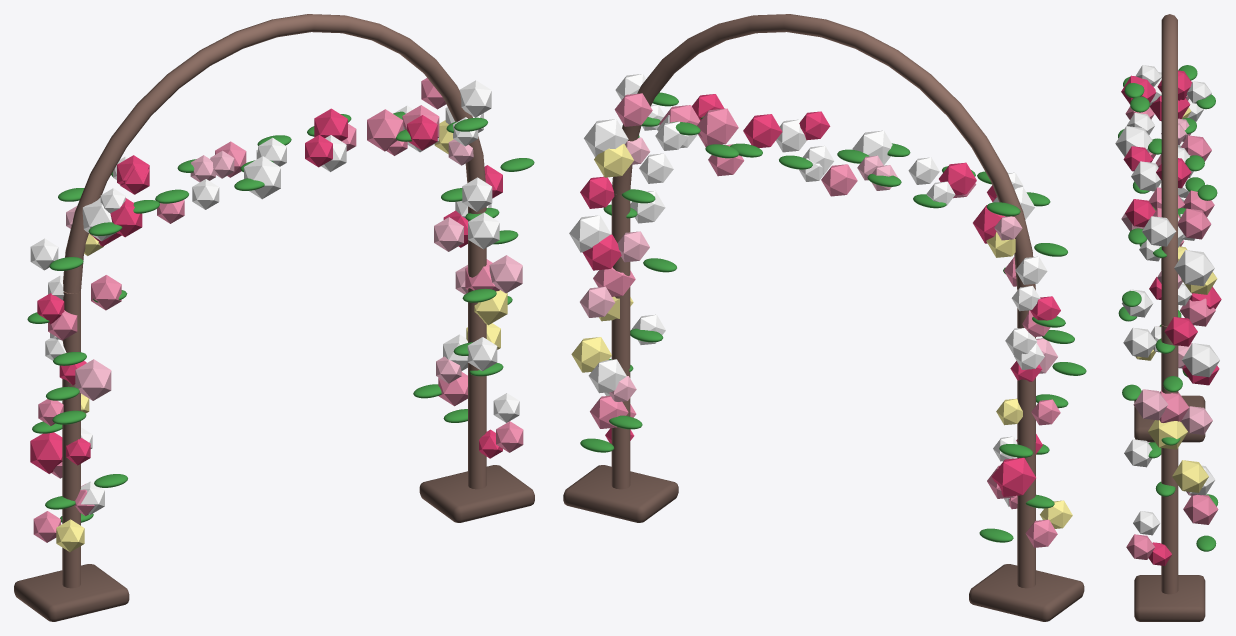
The model's file is flower_arch.fbx.
3 views of the same model, side by side, from view 1: azimuth 30°, elevation 25°; view 2: azimuth 150°, elevation 25°; view 3: azimuth 270°, elevation 25° (orthographic). The views are drawn at different scales.
Visible parts, largest first — view 1: Flower Arch; view 2: Flower Arch; view 3: Flower Arch.
Boxes of the visible parts, <box> form: Flower Arch: <box>14,14,534,621</box>; Flower Arch: <box>563,14,1086,621</box>; Flower Arch: <box>1115,14,1221,621</box>.
Size of the model in its own units: 3.62 by 3.76 by 0.7519.
